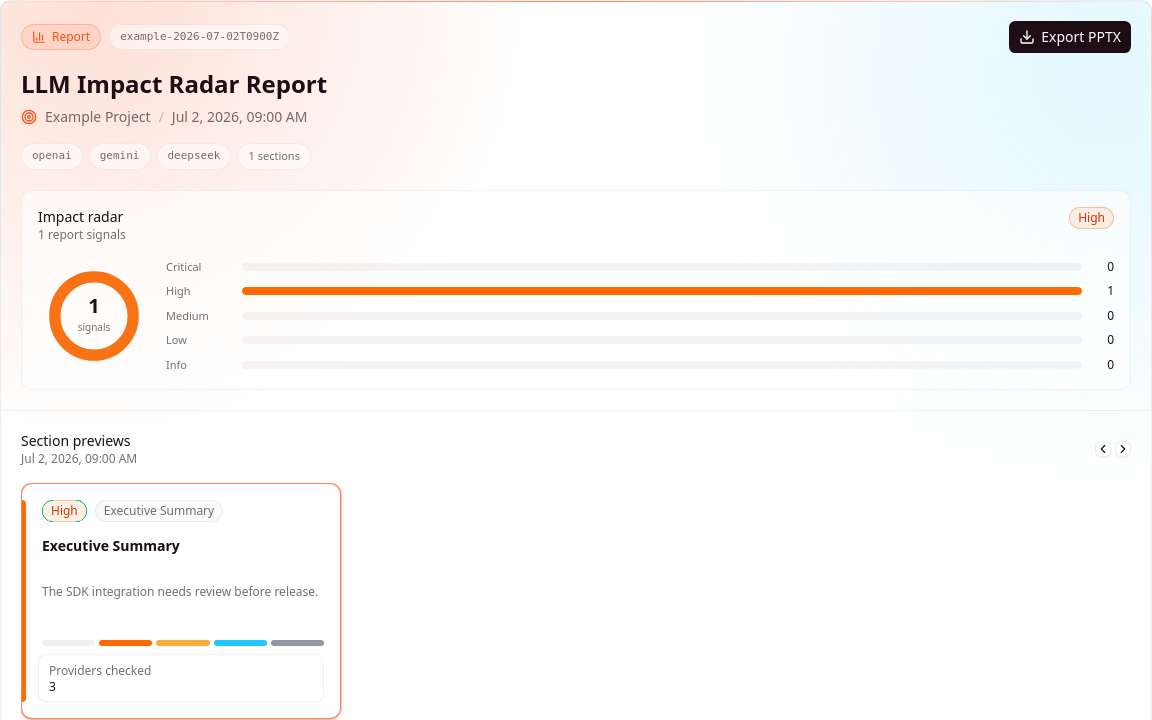
Scenario: ReportOutputView › does not apply generic report chat failures as refined text
The image size is (1152, 720).
Click the button "Executive Summary" at (181, 601), box 21,483 -> 341,719
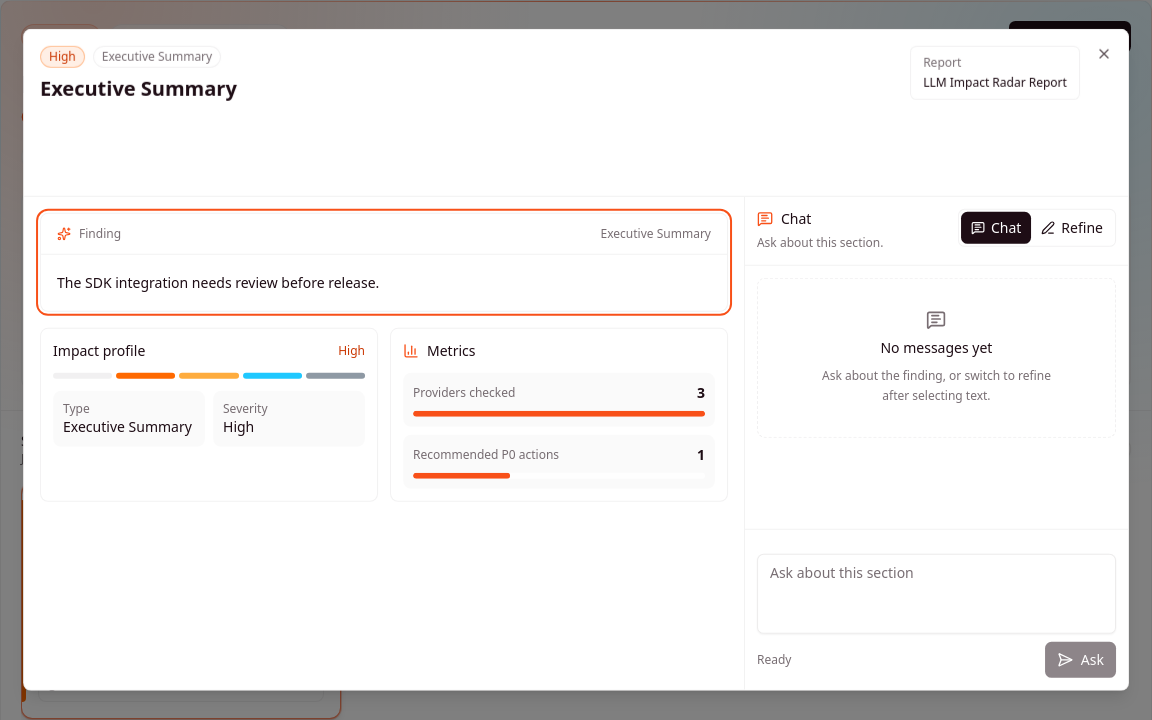
Click the button with aria-label "Refine mode" at (1072, 228), box 1031,212 -> 1113,244
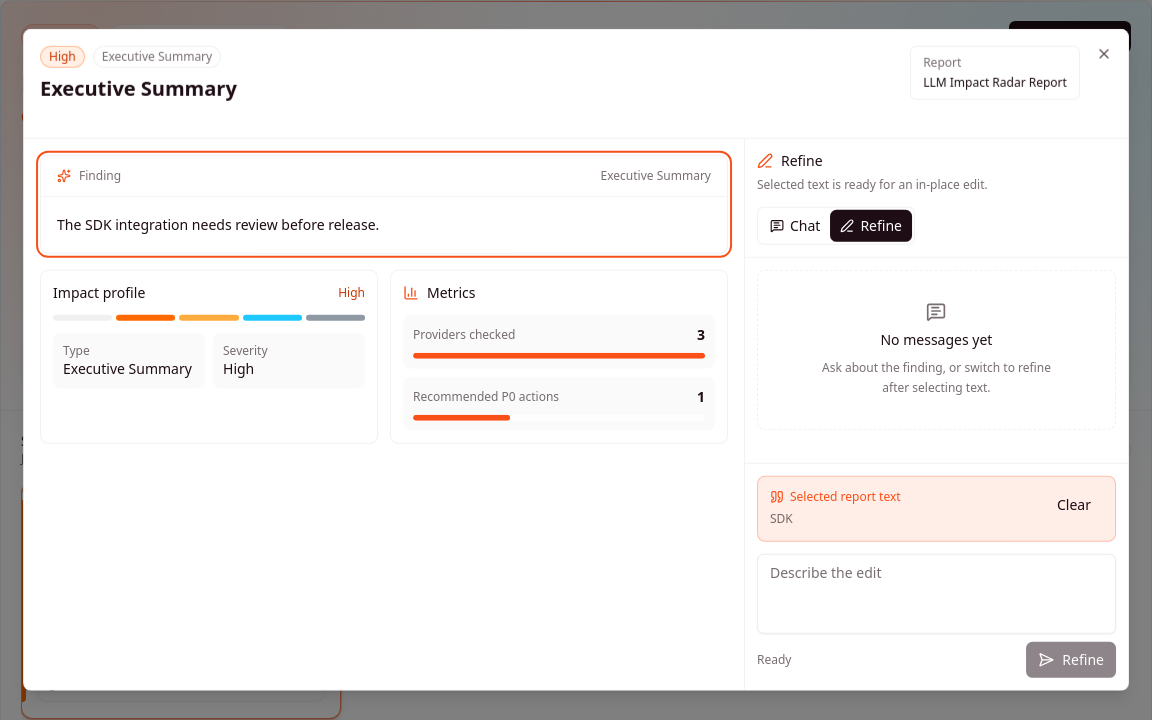
Type "use full spell" into the text box named "Question about report section" at (936, 594), box 757,554 -> 1116,634
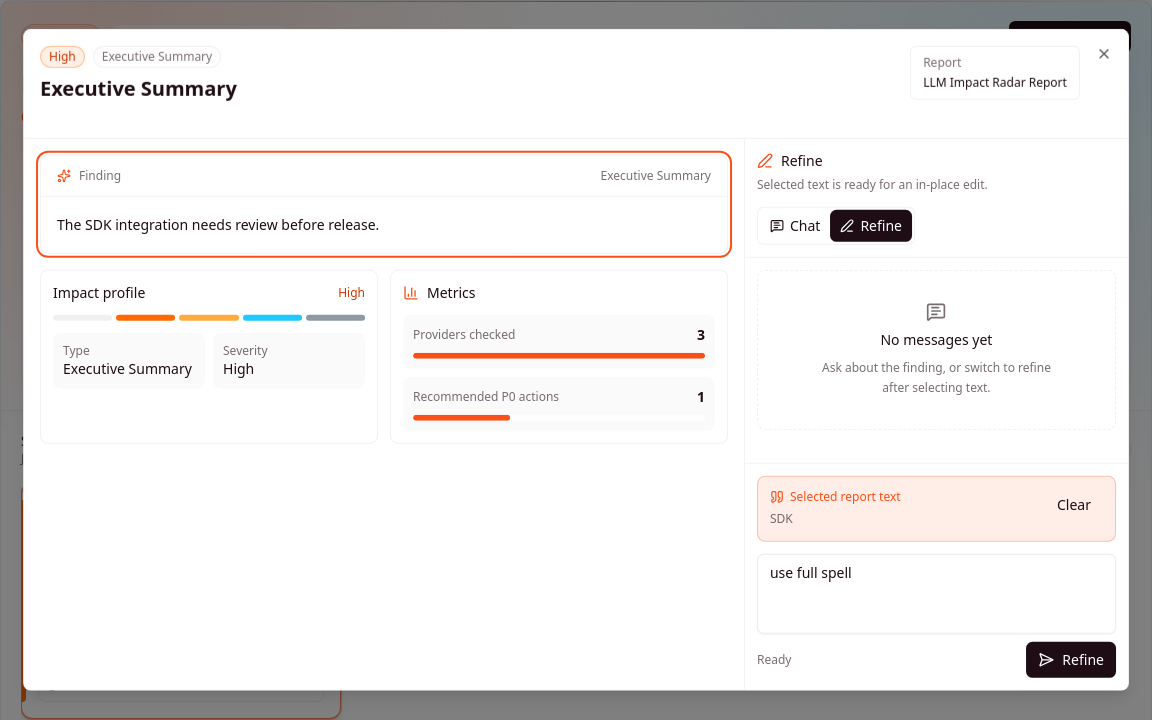
Press Enter in the text box named "Question about report section", box 757,554 -> 1116,634
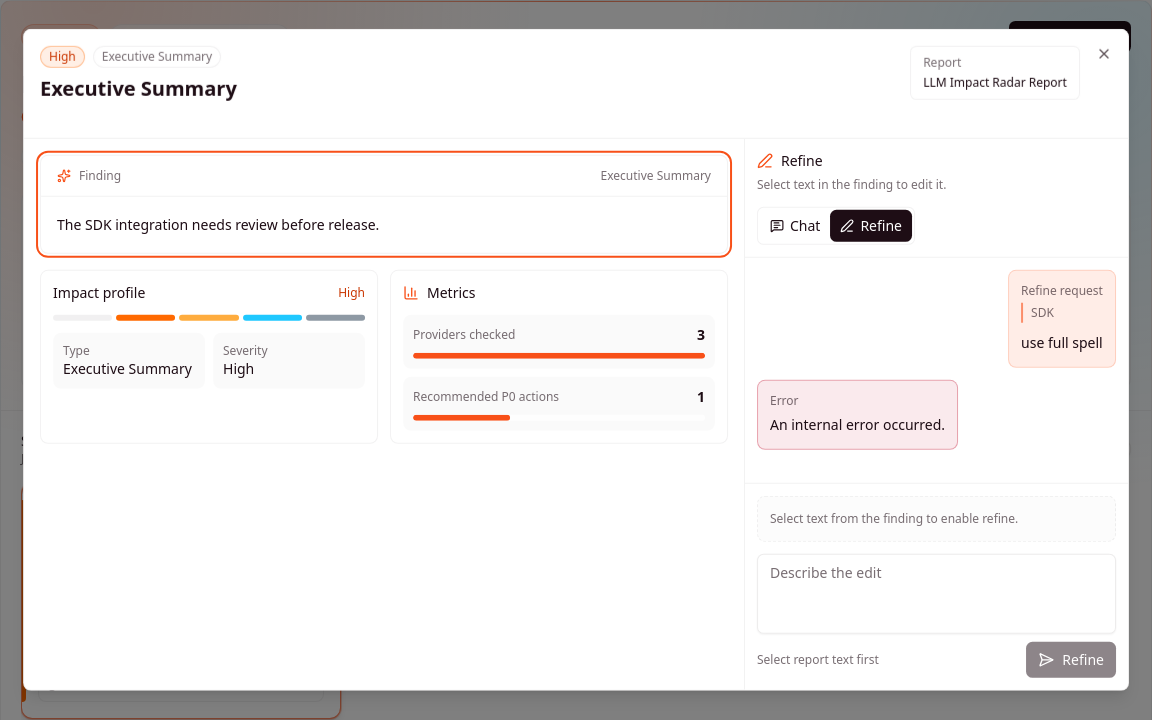
Check: the text "The SDK integration needs review before release." is shown, box 57,215 -> 379,234
Check: the text "Error" is shown, box 770,392 -> 799,409
Check: the text "An internal error occurred." is shown, box 770,413 -> 945,437
